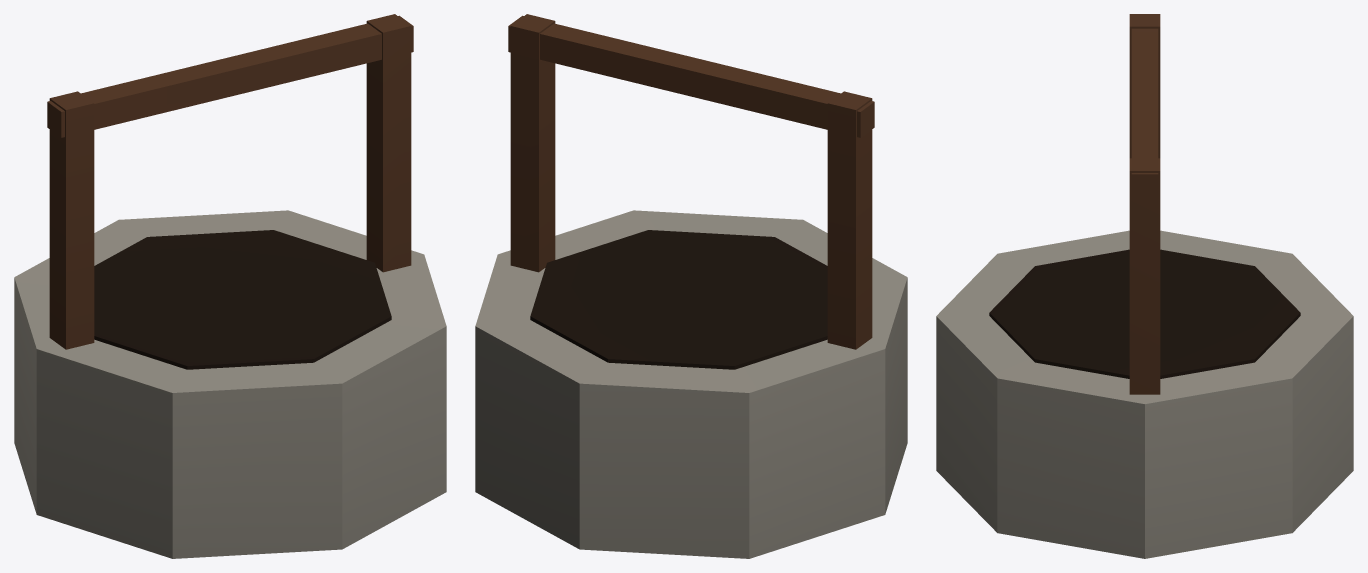
File: independence_well_lod1.glb
3 views of the same model, side by side, from view 1: azimuth 30°, elevation 25°; view 2: azimuth 150°, elevation 25°; view 3: azimuth 270°, elevation 25° (orthographic). The views are drawn at different scales.
Visible parts, largest first — view 1: GEO-Arch_independence_well_LOD1; view 2: GEO-Arch_independence_well_LOD1; view 3: GEO-Arch_independence_well_LOD1.
Part boxes in pixels (x1=…): GEO-Arch_independence_well_LOD1: x1=14, y1=14, x2=446, y2=558; GEO-Arch_independence_well_LOD1: x1=475, y1=14, x2=907, y2=558; GEO-Arch_independence_well_LOD1: x1=936, y1=14, x2=1353, y2=558.
Bounding box in the file's own units: 2.2 × 2.2 × 2.2.
